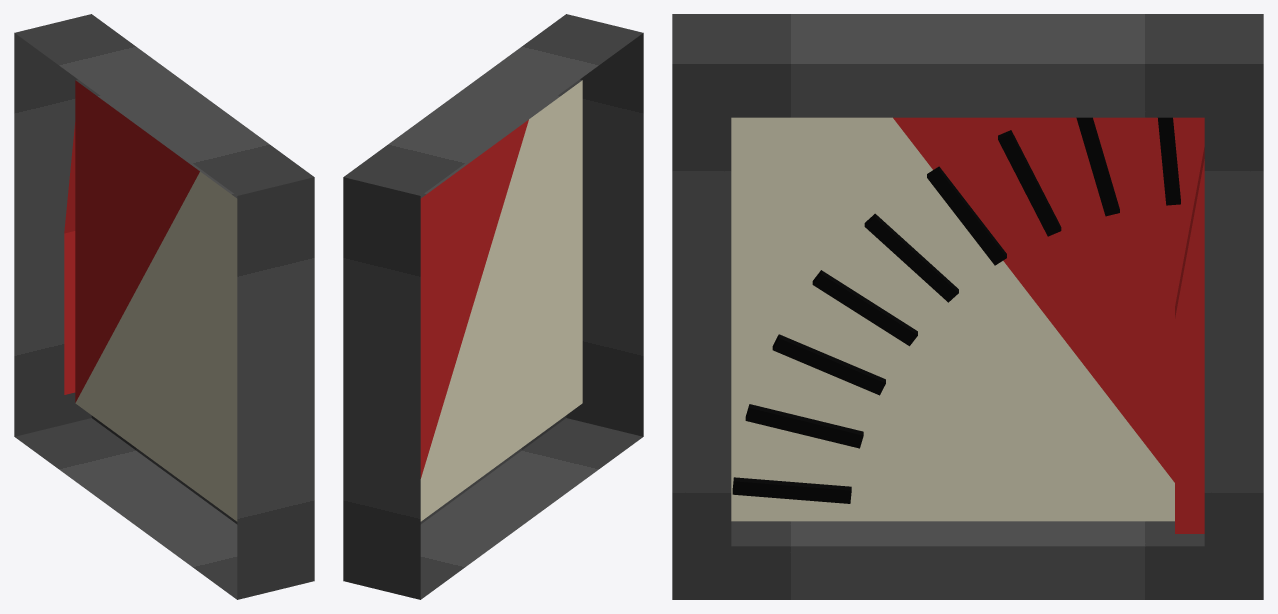
The model's file is gauge.obj.
3 views of the same model, side by side, from view 1: azimuth 30°, elevation 25°; view 2: azimuth 150°, elevation 25°; view 3: azimuth 270°, elevation 25° (orthographic). The views are drawn at different scales.
Visible parts, largest first — view 1: Gauge, Needle; view 2: Gauge; view 3: Gauge, Needle.
Part boxes in pixels (x1=…): Gauge: x1=14, y1=14, x2=314, y2=599; Needle: x1=64, y1=122, x2=75, y2=394; Gauge: x1=343, y1=14, x2=643, y2=599; Gauge: x1=672, y1=14, x2=1263, y2=599; Needle: x1=1175, y1=147, x2=1204, y2=533.
Size of the model in its own units: 0.0625 by 0.3125 by 0.3125.
